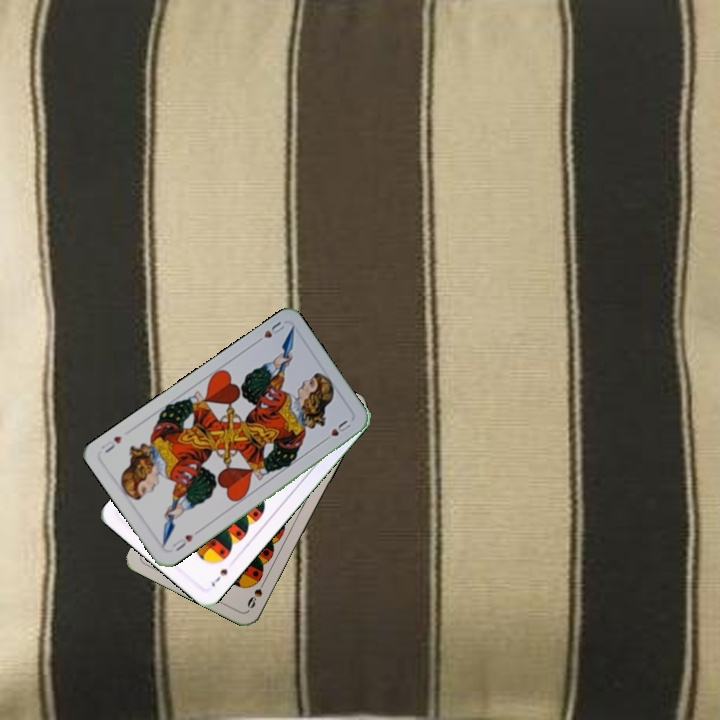HU: (251, 317, 289, 347), (168, 530, 196, 554)
S7: (207, 565, 230, 589)
S9: (243, 574, 269, 611)
